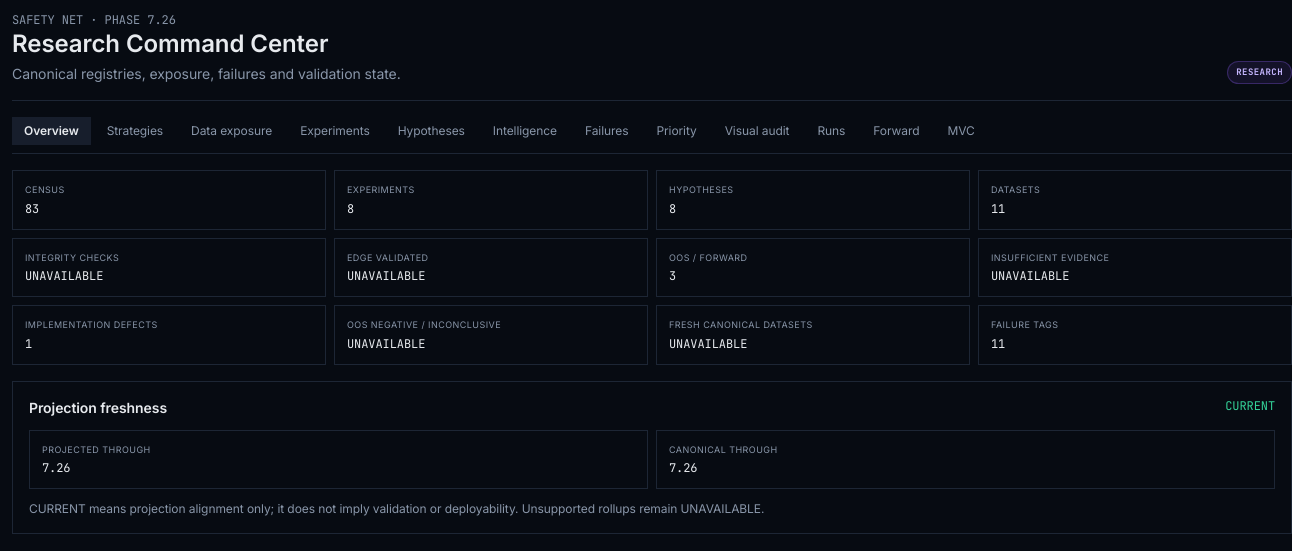
hypothesis lifecycle stays a hypothesis with separate datasets
What coordinates should you click on to do the following:
click the button "Hypotheses"
I would click on:
 (431, 131)
Its box is [386,117,477,145].
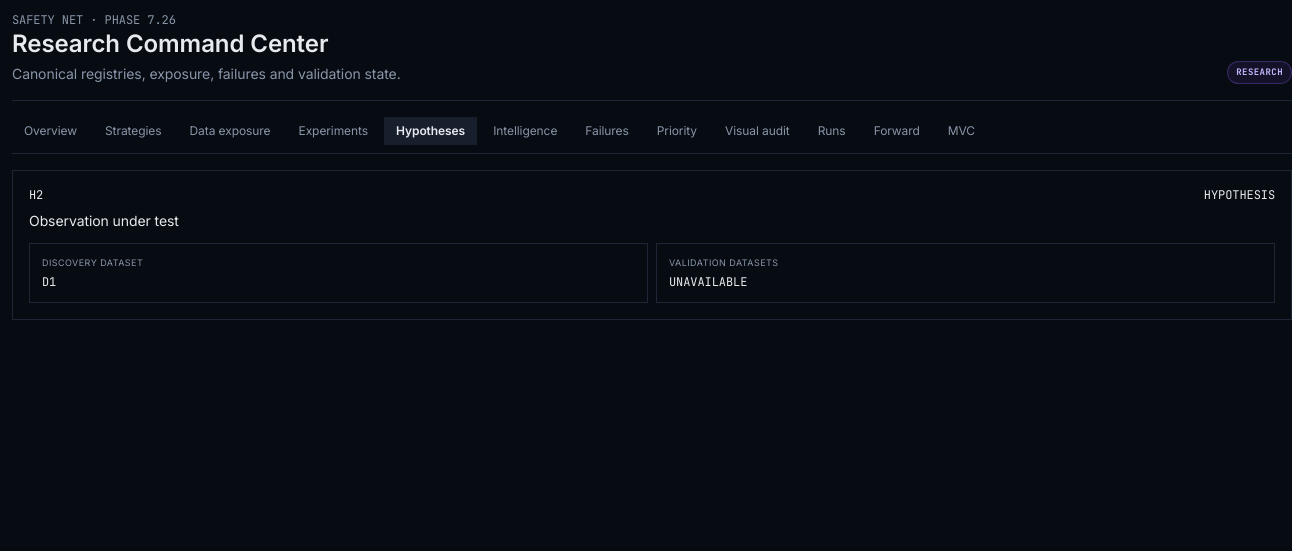
Expected: the text "UNAVAILABLE" is shown, [669,274,747,290]
Expected: the text "HYPOTHESIS" is shown, [1204,187,1275,203]
